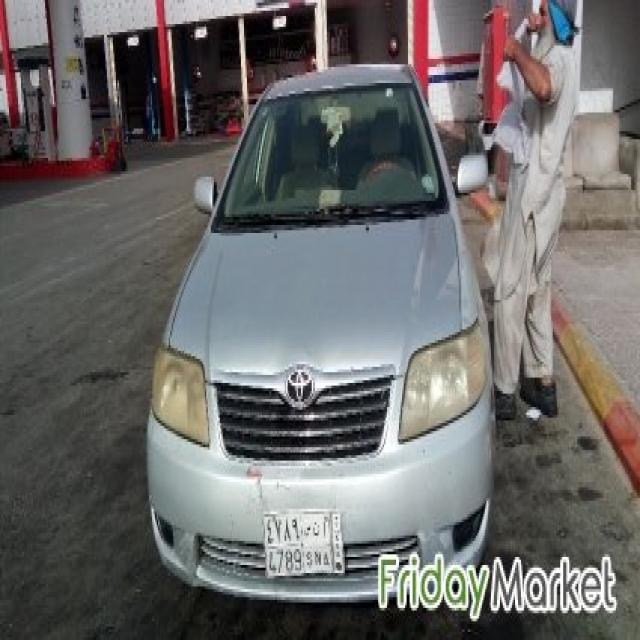license_plate: (260, 509, 346, 578)
